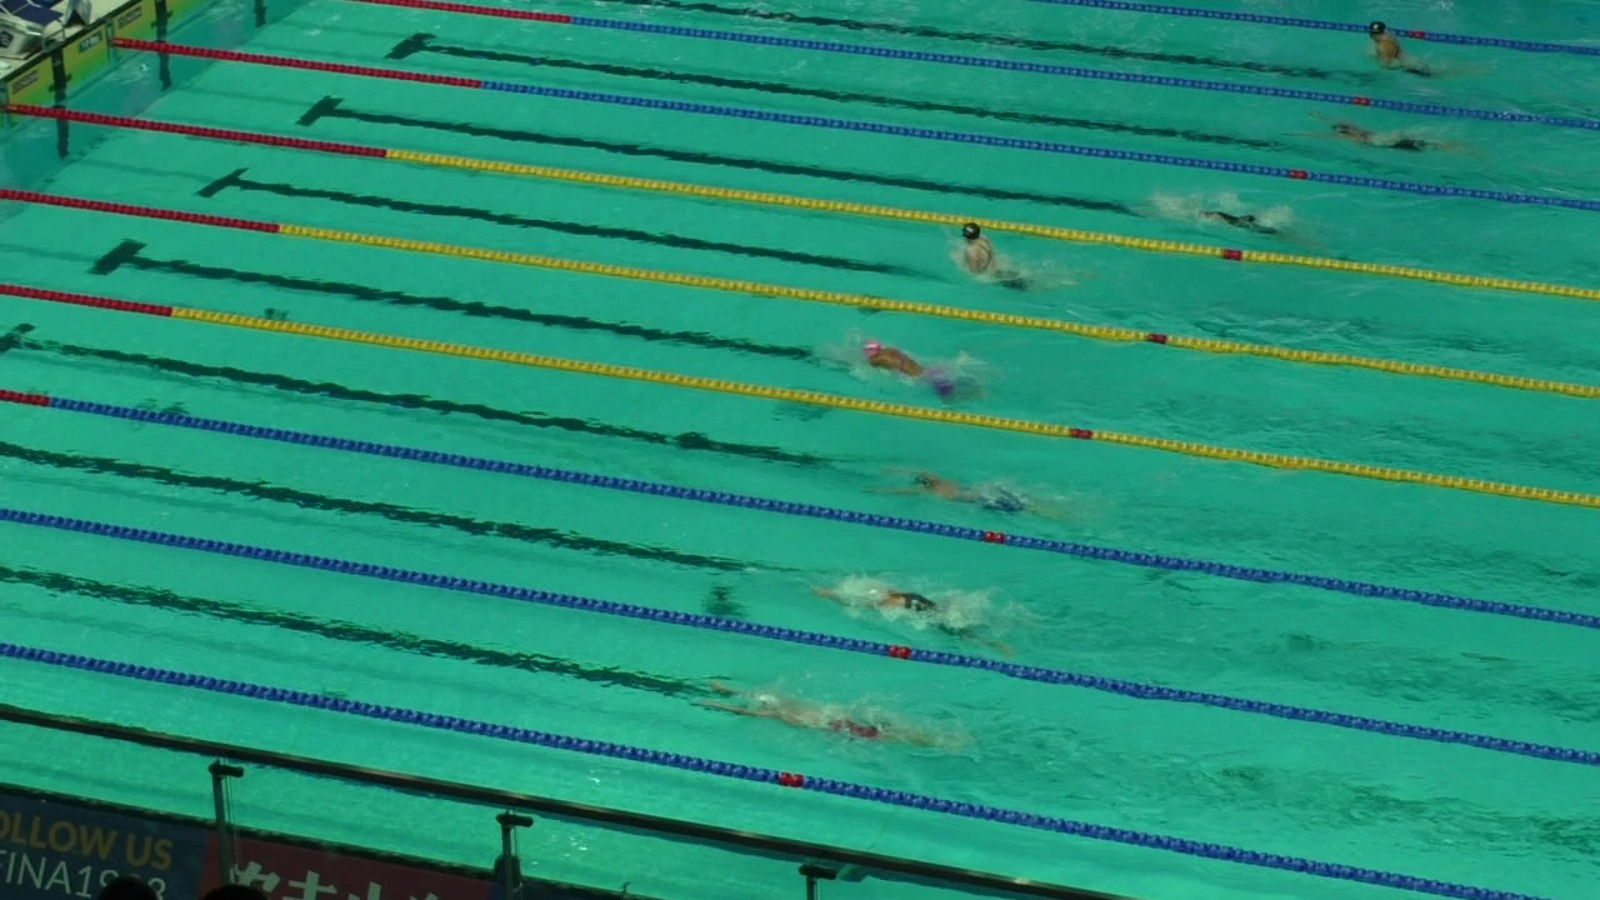swimmerwdd: (701, 675, 910, 752), (813, 579, 1011, 652), (953, 223, 1081, 308), (854, 337, 989, 408), (895, 465, 1031, 527), (1303, 105, 1435, 156), (1175, 189, 1309, 238), (1362, 20, 1467, 80)
